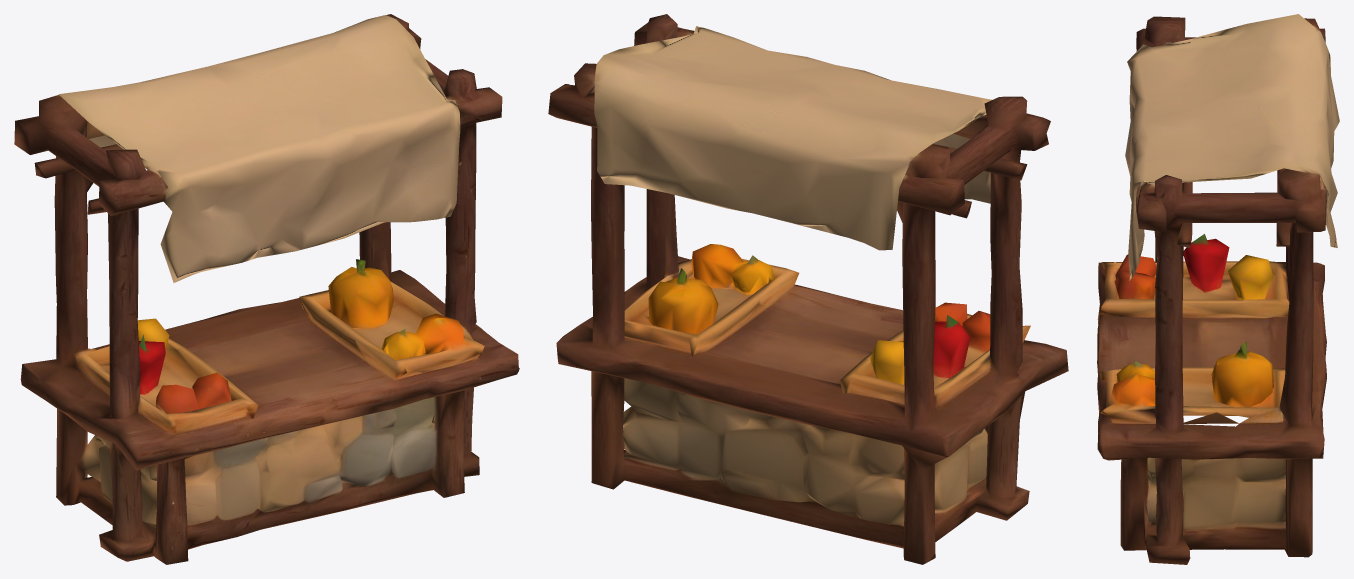
File: tripo_produce_stall.glb
3 renders of one model, left to right at view 1: azimuth 30°, elevation 25°; view 2: azimuth 150°, elevation 25°; view 3: azimuth 270°, elevation 25°, orthographic. The views are drawn at different scales.
Parts seen in each view (by area): view 1: produce_stall; view 2: produce_stall; view 3: produce_stall.
Part boxes in pixels (x1,y1,x2,y2): produce_stall: [14, 14, 519, 564]; produce_stall: [548, 14, 1068, 564]; produce_stall: [1097, 14, 1339, 564].
Bounding box in the file's own units: 3.33 × 3.3 × 1.86.
Materials: 1 (1 with a texture image).
